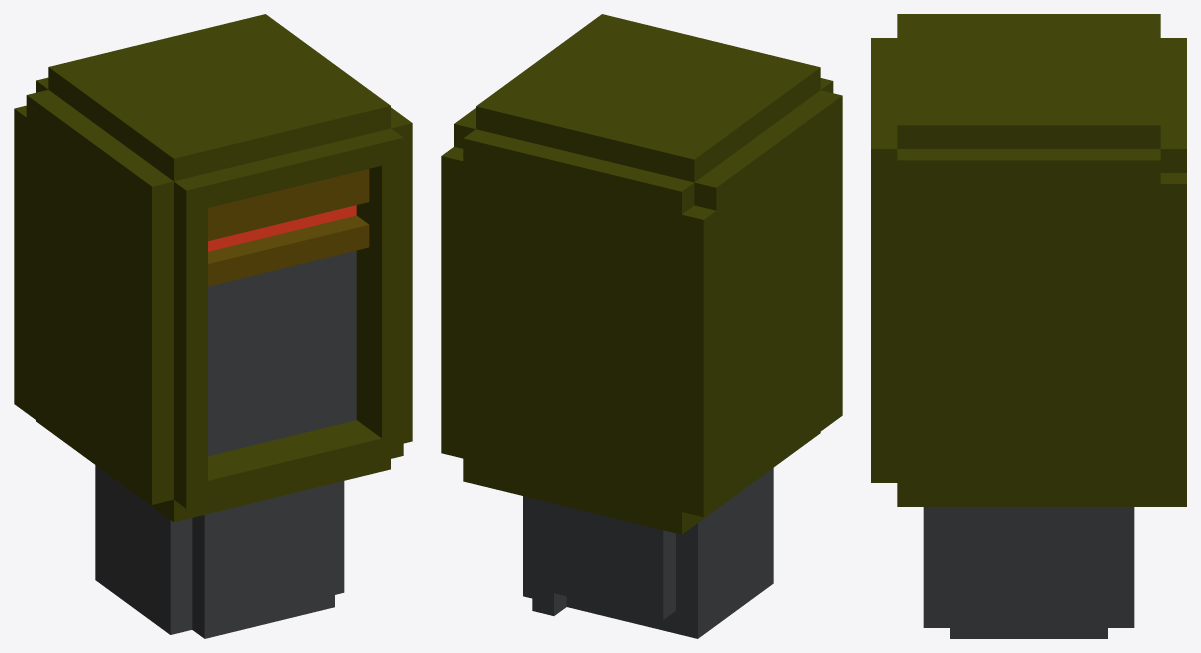
The model's file is Head8.fbx.
The picture shows the model from 3 angles, left to right: view 1: azimuth 30°, elevation 25°; view 2: azimuth 150°, elevation 25°; view 3: azimuth 270°, elevation 25°; orthographic projection. The views are drawn at different scales.
Visible parts, largest first — view 1: Head8; view 2: Head8; view 3: Head8.
Boxes of the visible parts, bbox=[...] form: Head8: bbox=[14, 14, 412, 638]; Head8: bbox=[441, 14, 842, 638]; Head8: bbox=[871, 14, 1186, 638].
Size of the model in its own units: 60 by 110 by 60.
